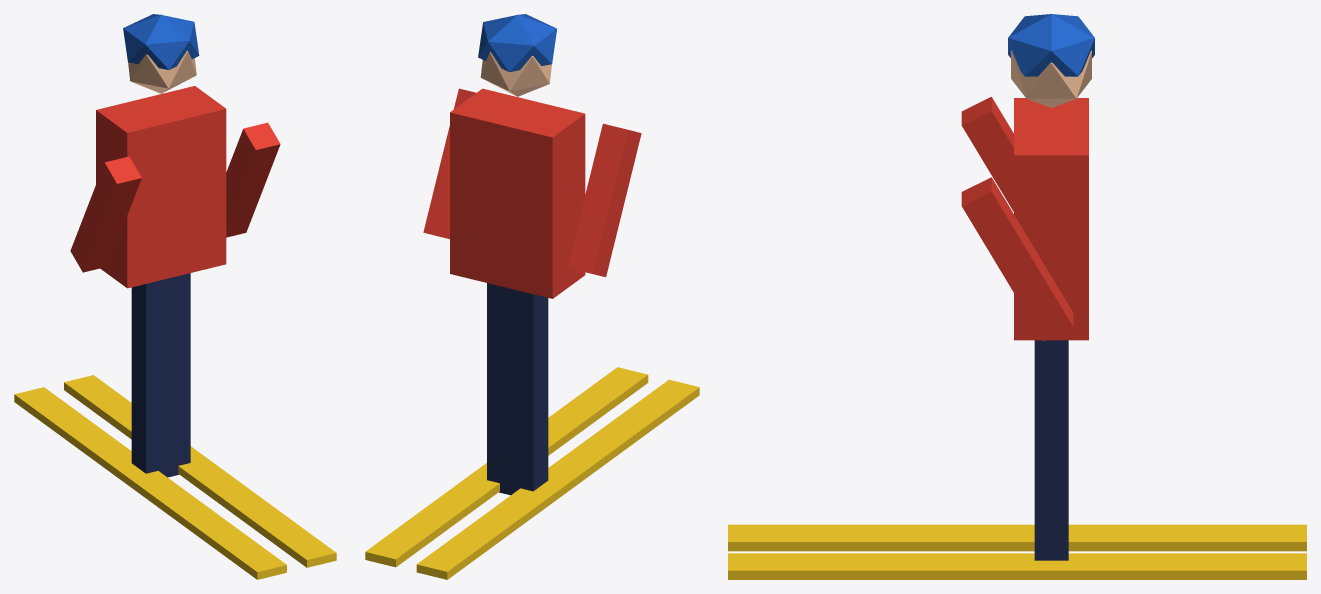
Rendered from skier_figure.glb.
The picture shows the model from 3 angles, left to right: view 1: azimuth 30°, elevation 25°; view 2: azimuth 150°, elevation 25°; view 3: azimuth 270°, elevation 25°; orthographic projection. The views are drawn at different scales.
Parts seen in each view (by area): view 1: skier_figure; view 2: skier_figure; view 3: skier_figure.
Part boxes in pixels (box(x1,y1,x2,y2)): skier_figure: box(14, 14, 336, 579); skier_figure: box(365, 14, 699, 579); skier_figure: box(728, 14, 1306, 579).
Bounding box in the file's own units: 0.66 × 1.76 × 1.7.
